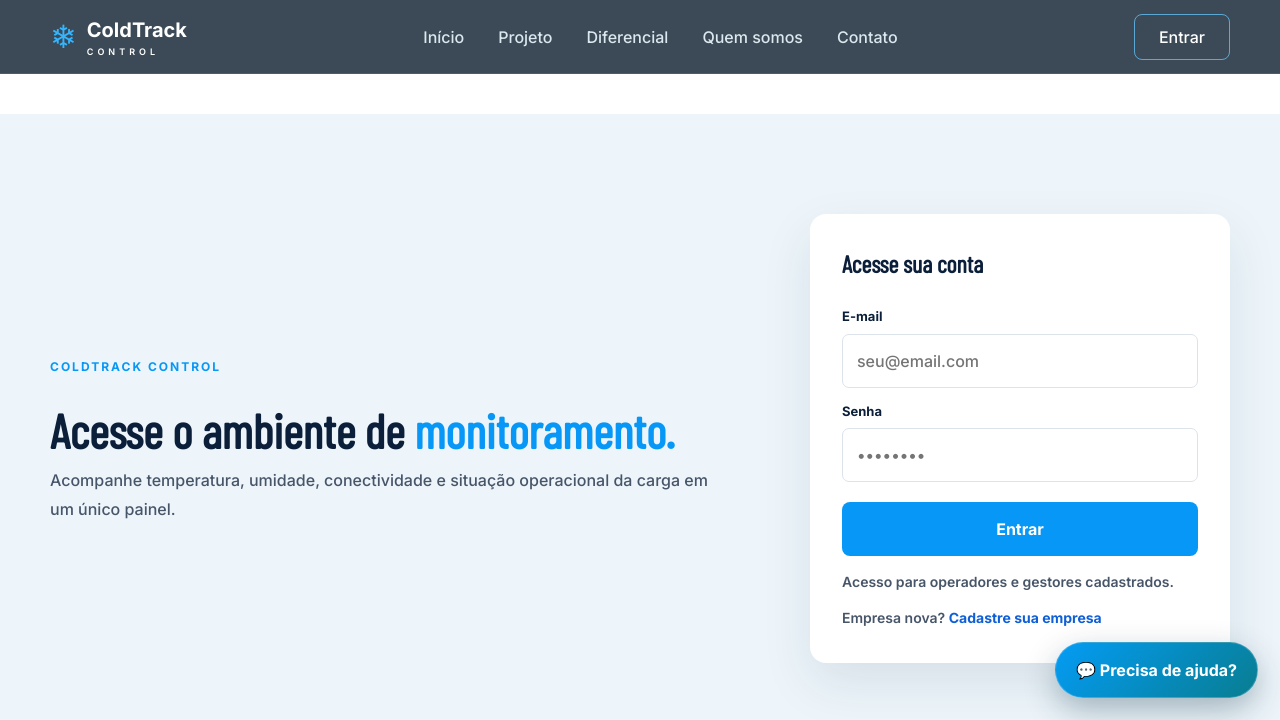
Test: Home › falha de rede: avisa que está sem conexão
Type "ana@empresa.com" into the field labelled "E-mail" at (1020, 361), box [842,334,1198,388]
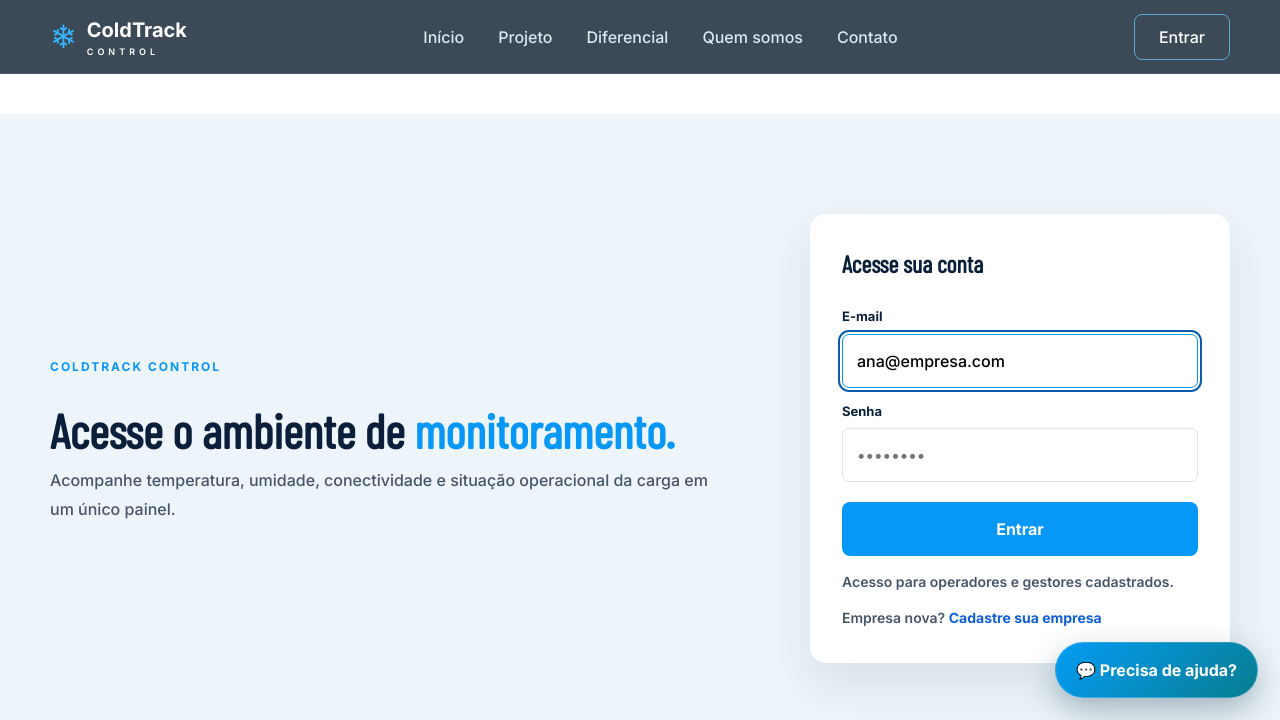
Type "x" into the password field labelled "Senha" at (1020, 455), box [842,428,1198,482]
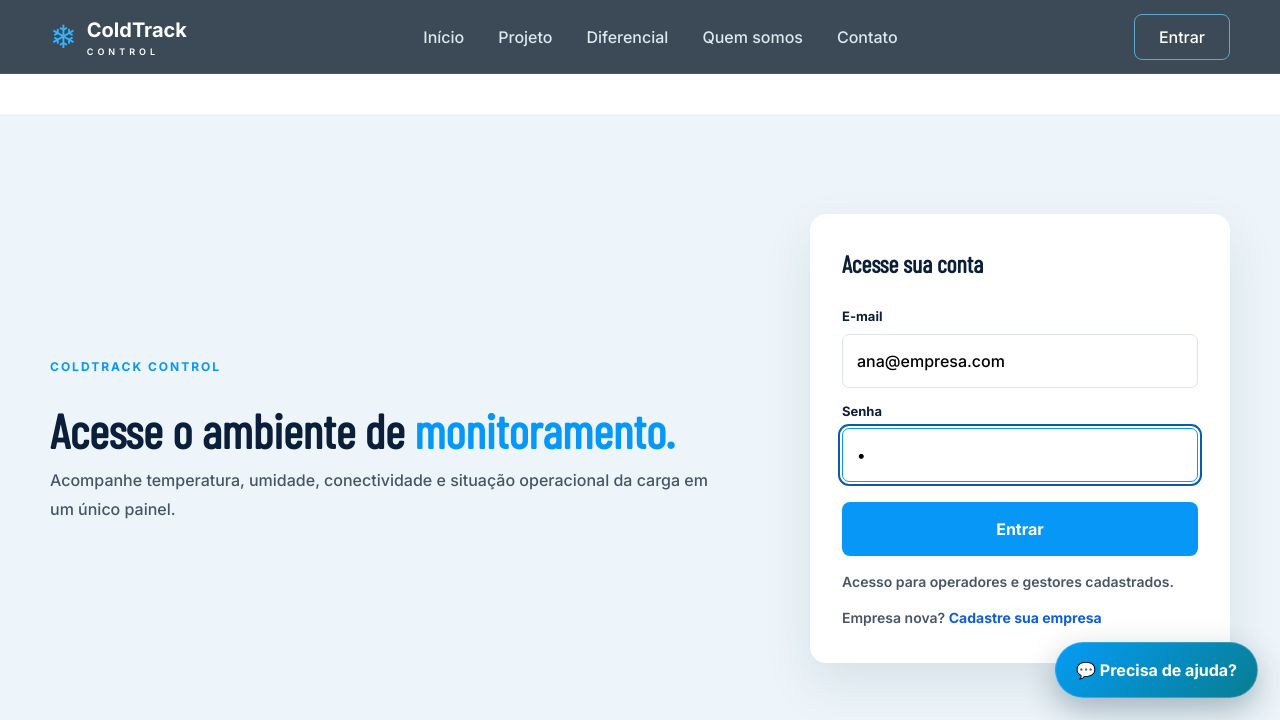
Click the button "Entrar" at (1020, 529), box [842,502,1198,556]
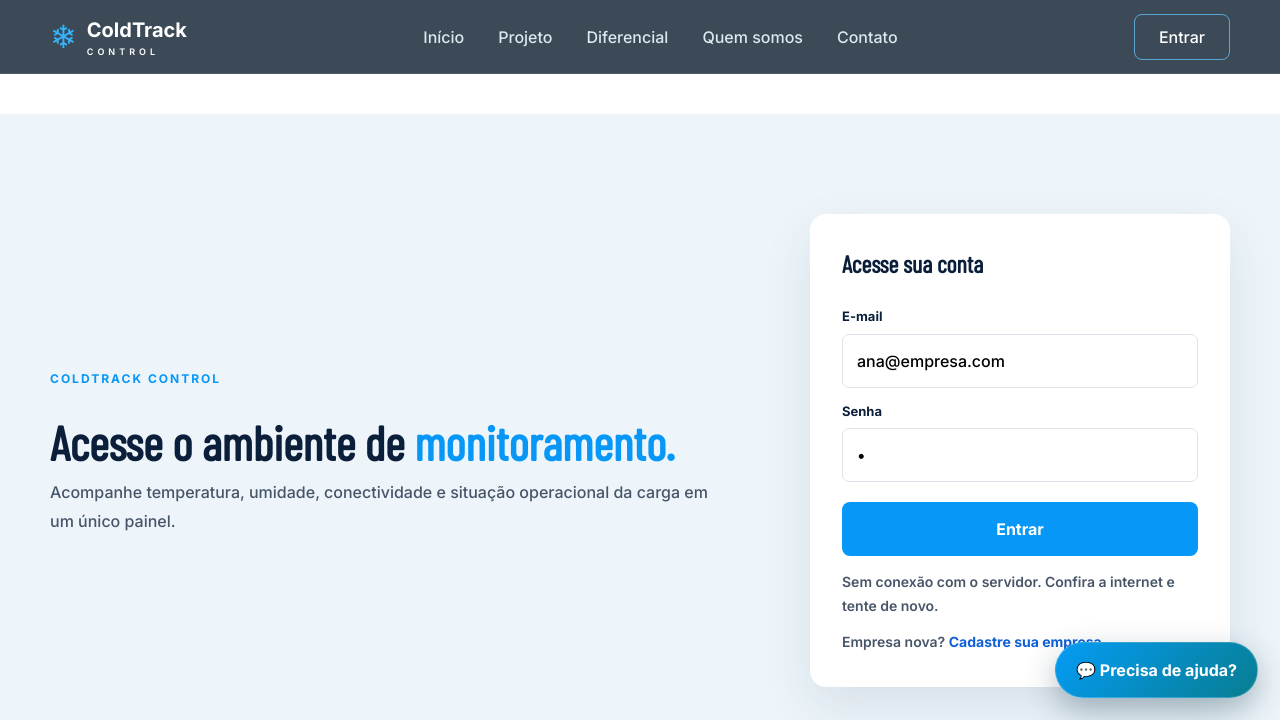
Result: the text "Sem conexão com o servidor. Confira a internet e tente de novo." is shown at [842,573,1175,614]
